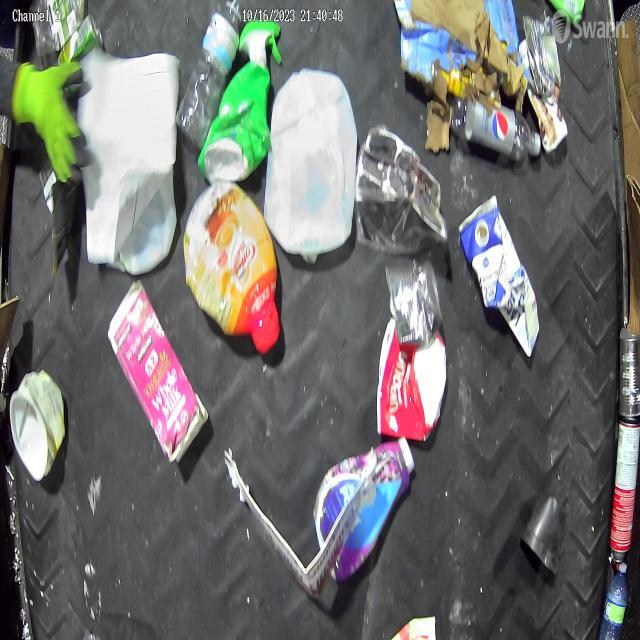can: (384, 259, 442, 345), (522, 14, 562, 94), (57, 11, 104, 65), (618, 326, 640, 416)
milk_jug: (262, 68, 358, 257)
non_white_jug: (106, 278, 210, 466), (182, 181, 281, 353), (196, 20, 284, 184)
plastic_bottle: (176, 0, 242, 151), (450, 88, 541, 160), (598, 561, 628, 640)
